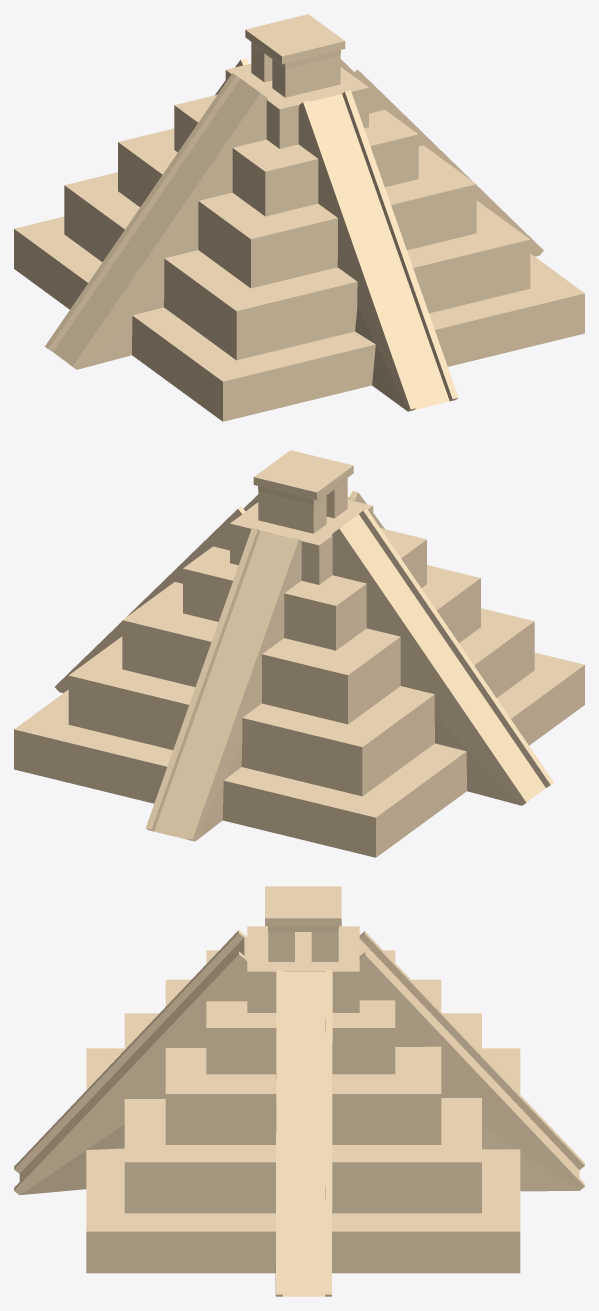
File: maya.fbx
3 views of the same model, one above another, from view 1: azimuth 30°, elevation 25°; view 2: azimuth 150°, elevation 25°; view 3: azimuth 270°, elevation 25° (orthographic). The views are drawn at different scales.
Parts seen in each view (by area): view 1: model; view 2: model; view 3: model.
Part boxes in pixels (x1,y1,x2,y2): model: (14,14,584,421); model: (14,450,584,857); model: (14,886,584,1296).
Bounding box in the file's own units: 111 × 60.68 × 112.
